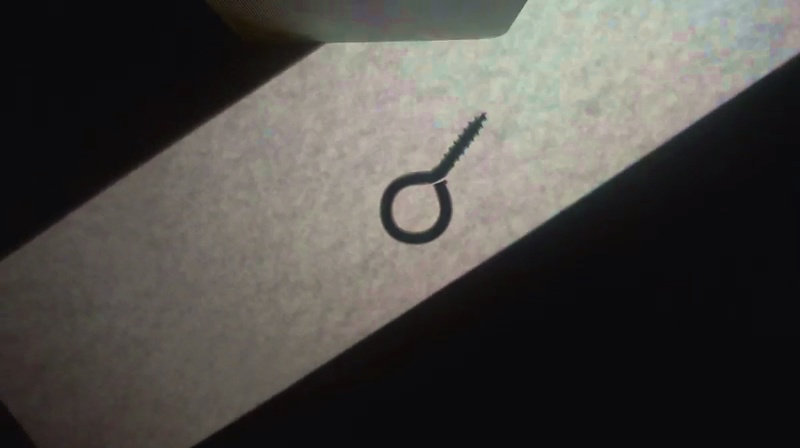O001: (375, 108, 489, 246)
